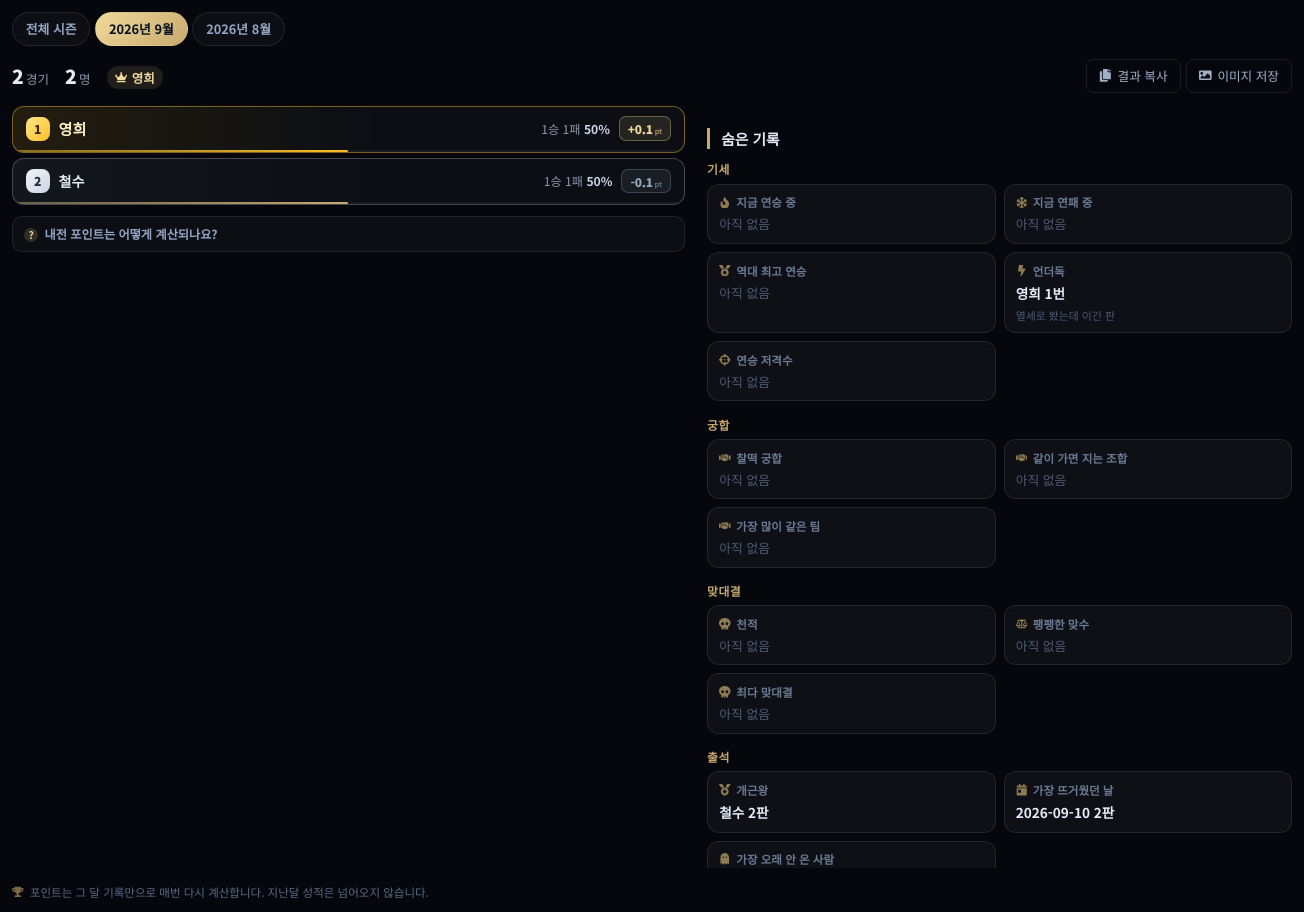
Test case: 전체 시즌은 모든 달을 합쳐 센다
Expected: the element with class "season-summary" shows "2경기", [12,59,1292,93]
Click the button "전체 시즌" at (51, 29), box [12,12,90,46]
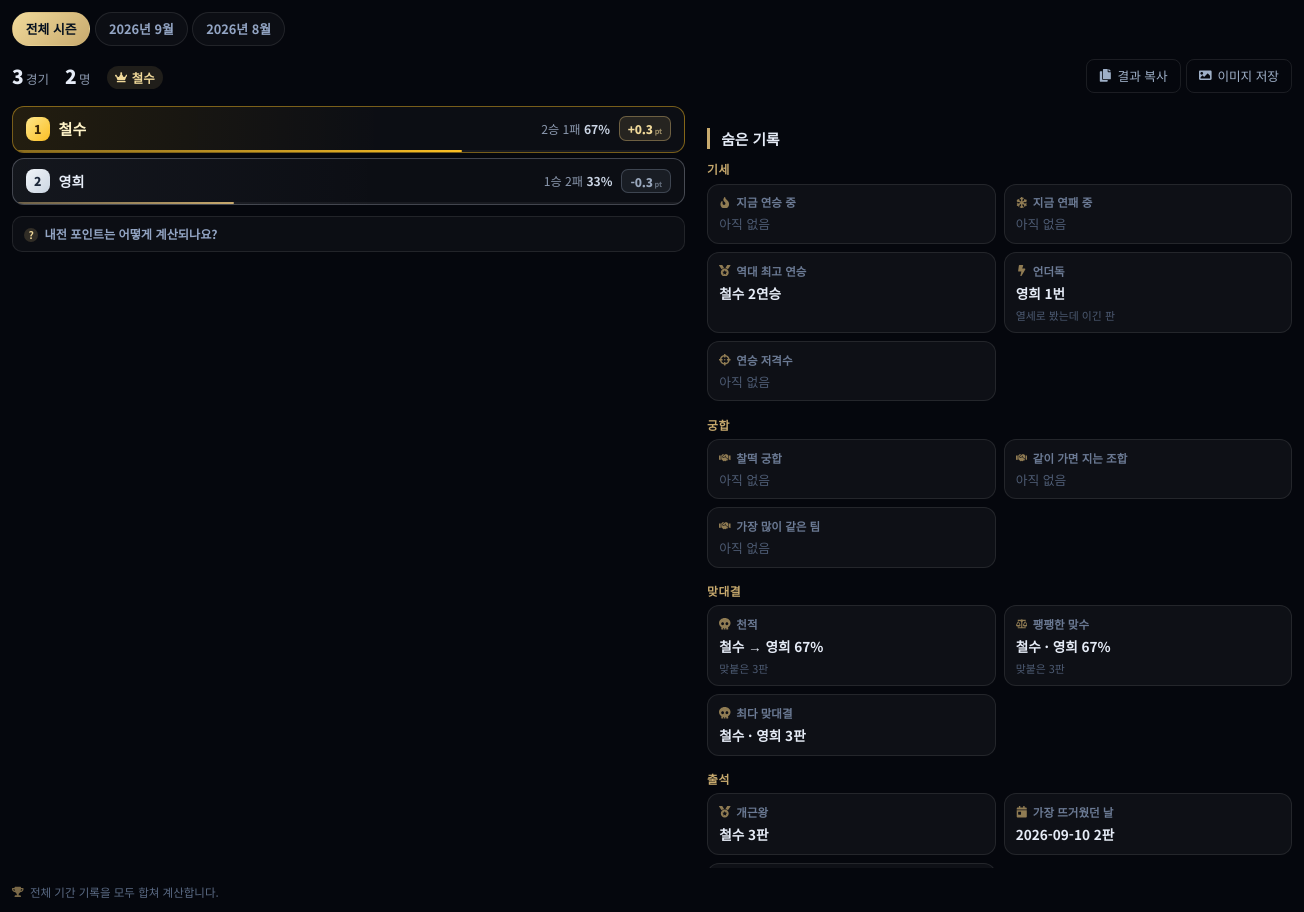
Now the element with class "season-summary" shows "3경기", box [12,59,1292,93]
